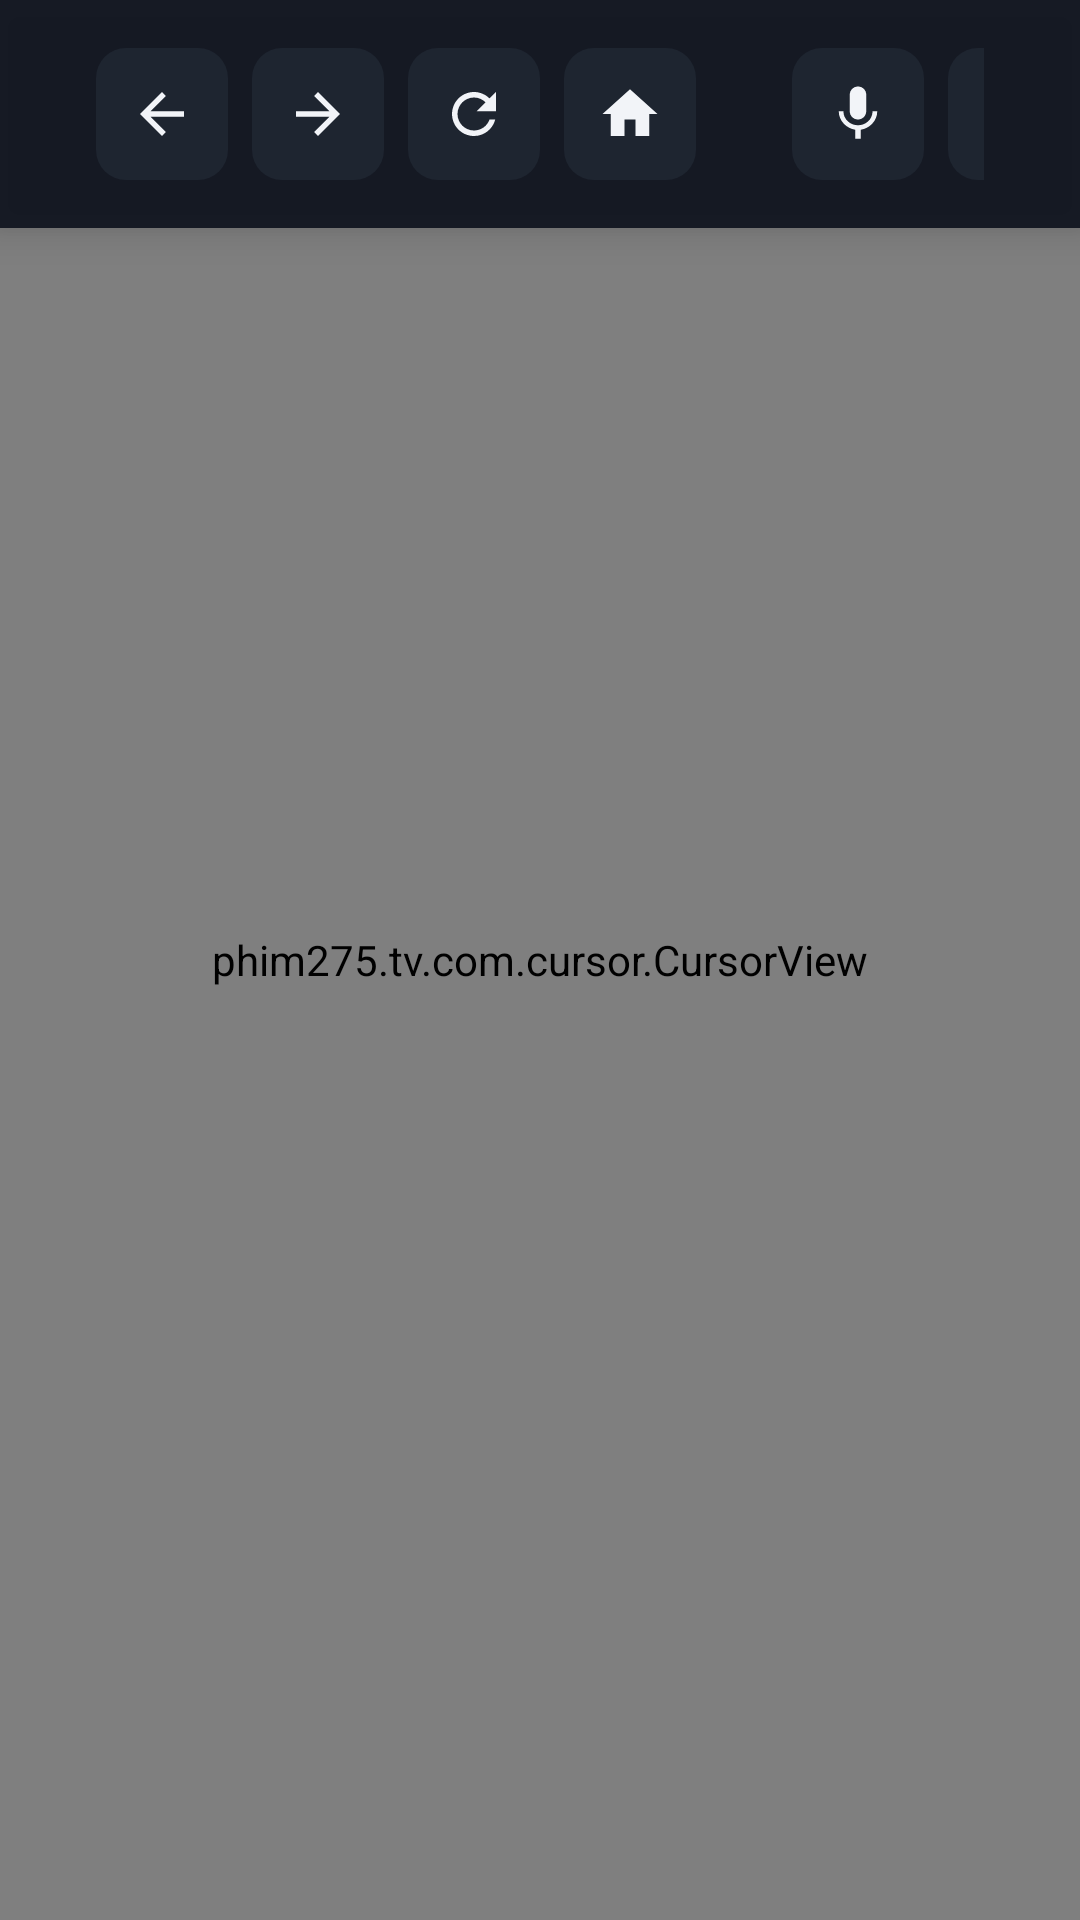

Screen size 1080×1920. Icon name, then its center in pixels as (x=x, y=y):
Quay lại: (x=162, y=114)
Tiến tới: (x=318, y=114)
Trang chủ: (x=630, y=112)
Tìm bằng giọng nói: (x=858, y=114)
Tải lại: (x=474, y=114)
